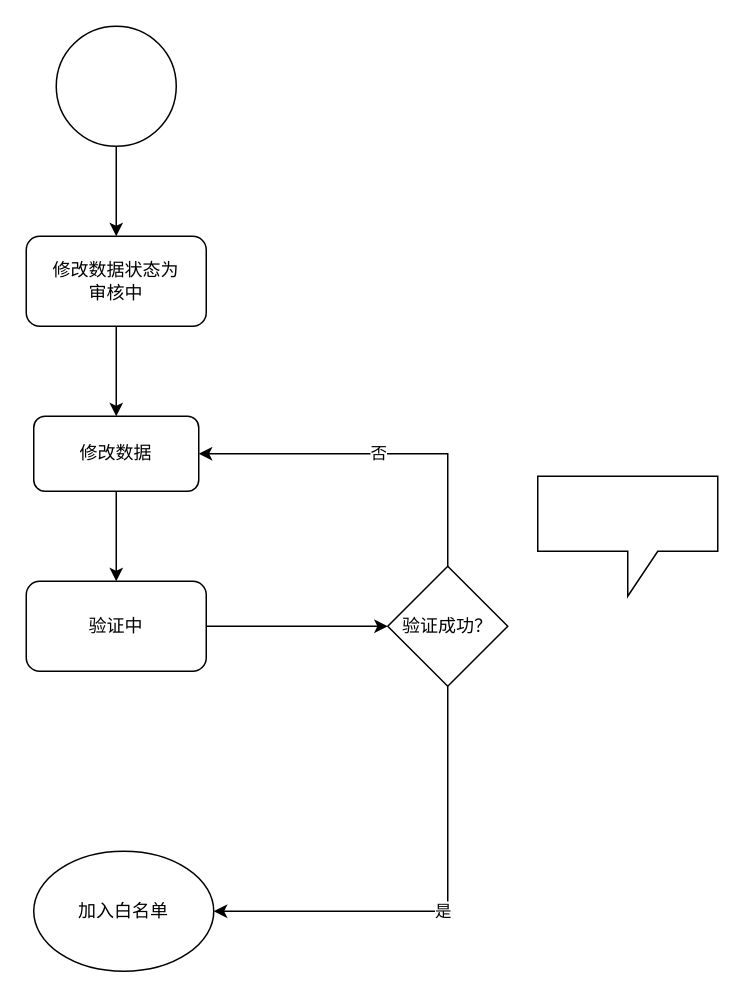
The diagram is 744 pixels wide and 998 high, and some of its shapes have lost their labels. The shapes that lost their labels are listed below. From the top down, each one's box as (x1, y1, x2, y2) in pixels, then its label:
(55, 25, 176, 146): 待审核数据
(536, 475, 718, 596): 思考： 验证过程还需要现场的再次测试？
